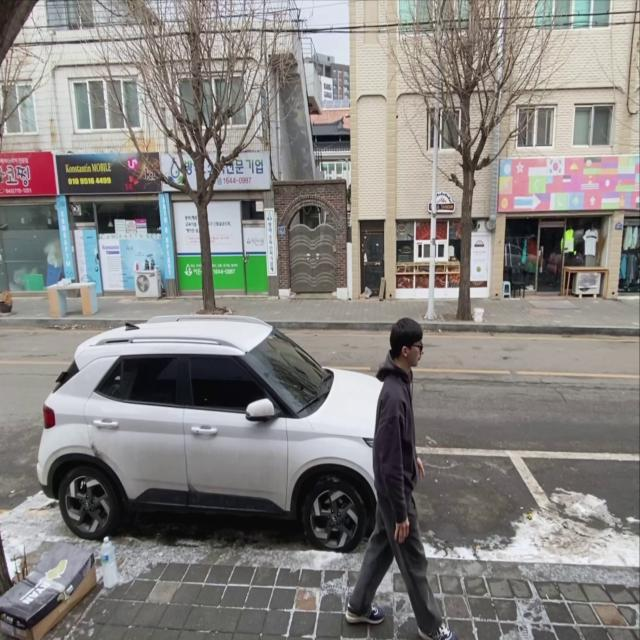bare_hand: (412, 451, 430, 482), (394, 516, 413, 545)
